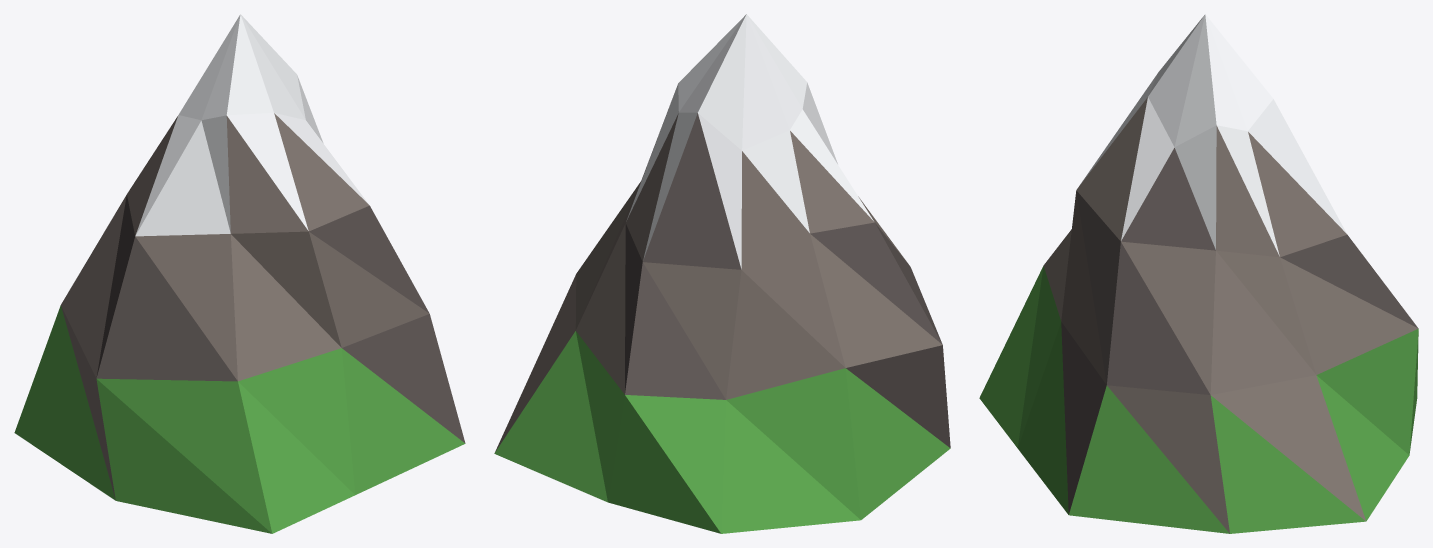
Rendered from Mountain.fbx.
3 views of the same model, side by side, from view 1: azimuth 30°, elevation 25°; view 2: azimuth 150°, elevation 25°; view 3: azimuth 270°, elevation 25° (orthographic).
Parts seen in each view (by area): view 1: Mountain; view 2: Mountain; view 3: Mountain.
Boxes of the visible parts, x1,y1,x2,y2 form: Mountain: (14, 14, 465, 533); Mountain: (494, 14, 950, 533); Mountain: (979, 14, 1418, 533).
Size of the model in its own units: 91.23 by 100 by 94.
